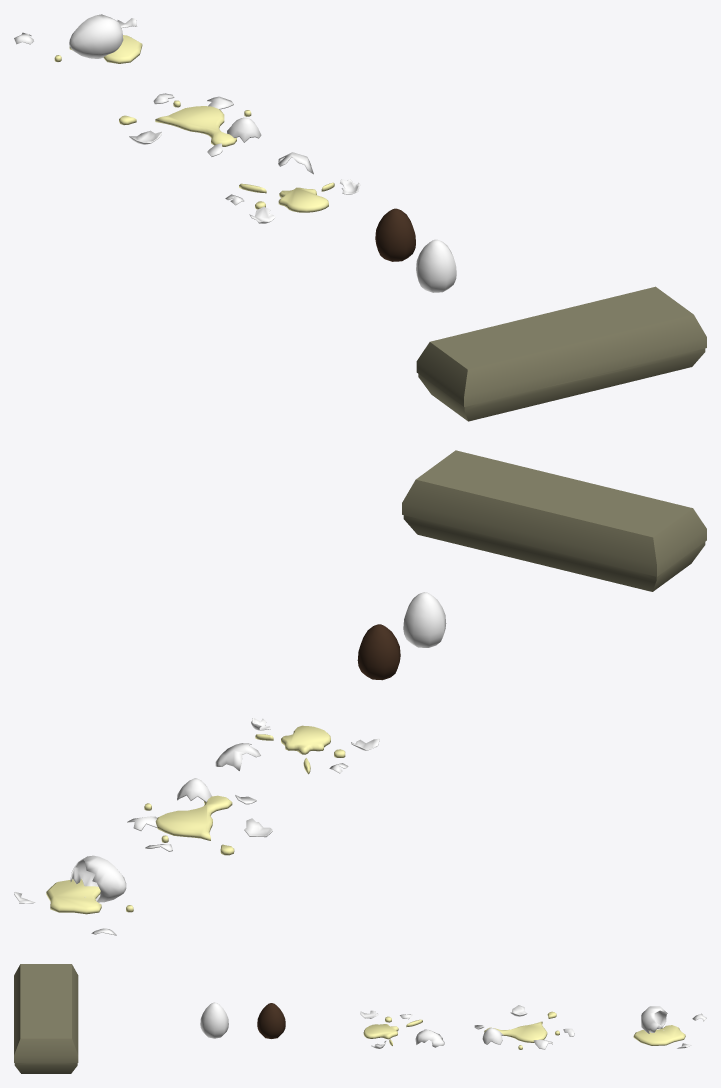
The model's file is RawEggs.fbx.
The picture shows the model from 3 angles, top to bottom: view 1: azimuth 30°, elevation 25°; view 2: azimuth 150°, elevation 25°; view 3: azimuth 270°, elevation 25°; orthographic projection. The views are drawn at different scales.
Visible parts, largest first — view 1: EggCartonTop, EggCartonBottom, EggSplatter2Yolk, EggSplatter1ShellA, Egg, ChocolateEgg, EggSplatter3Yolk, EggSplatter1Yolk; view 2: EggCartonTop, EggCartonBottom, EggSplatter2Yolk, ChocolateEgg, Egg, EggSplatter1ShellA, EggSplatter1Yolk, EggSplatter3Yolk; view 3: EggCartonTop, ChocolateEgg, Egg, EggSplatter2Yolk, EggSplatter1Yolk, EggCartonBottom, EggSplatter3Yolk, EggSplatter1ShellA, EggSplatter3ShellD, EggSplatter2ShellD.
Part boxes in pixels (bbox=[...]): EggCartonTop: bbox=[416, 286, 706, 406]; EggCartonBottom: bbox=[418, 348, 705, 421]; EggSplatter2Yolk: bbox=[119, 100, 251, 146]; EggSplatter1ShellA: bbox=[69, 14, 123, 58]; Egg: bbox=[416, 239, 456, 292]; ChocolateEgg: bbox=[375, 208, 415, 261]; EggSplatter3Yolk: bbox=[239, 182, 334, 212]; EggSplatter1Yolk: bbox=[54, 35, 142, 63]; EggCartonTop: bbox=[402, 450, 706, 576]; EggCartonBottom: bbox=[403, 515, 705, 591]; EggSplatter2Yolk: bbox=[144, 795, 234, 855]; ChocolateEgg: bbox=[357, 624, 400, 680]; Egg: bbox=[403, 592, 446, 647]; EggSplatter1ShellA: bbox=[70, 855, 126, 902]; EggSplatter1Yolk: bbox=[46, 879, 133, 914]; EggSplatter3Yolk: bbox=[255, 725, 345, 774]; EggCartonTop: bbox=[14, 964, 78, 1062]; ChocolateEgg: bbox=[257, 1003, 285, 1038]; Egg: bbox=[200, 1002, 228, 1038]; EggSplatter2Yolk: bbox=[484, 1011, 559, 1049]; EggSplatter1Yolk: bbox=[633, 1025, 685, 1045]; EggCartonBottom: bbox=[14, 1063, 77, 1073]; EggSplatter3Yolk: bbox=[363, 1016, 422, 1045]; EggSplatter1ShellA: bbox=[641, 1006, 667, 1033]; EggSplatter3ShellD: bbox=[415, 1029, 444, 1047]; EggSplatter2ShellD: bbox=[482, 1028, 503, 1044].
Size of the model in its own units: 0.6956 by 0.1445 by 2.54.
